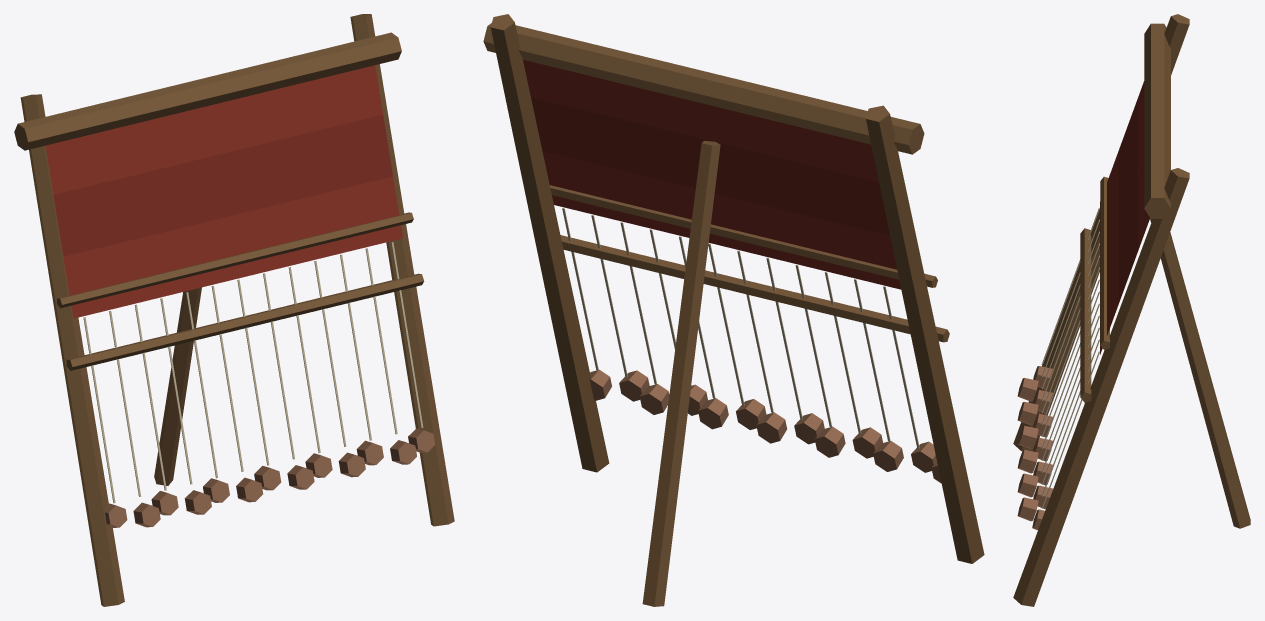
Rendered from b4_vaev.glb.
The picture shows the model from 3 angles, left to right: view 1: azimuth 30°, elevation 25°; view 2: azimuth 150°, elevation 25°; view 3: azimuth 270°, elevation 25°; orthographic projection. The views are drawn at different scales.
Visible parts, largest first — view 1: B4_opstadsvaev; view 2: B4_opstadsvaev; view 3: B4_opstadsvaev.
Part boxes in pixels (left/top/right/bottom): B4_opstadsvaev: left=14, top=14, right=454, bottom=606; B4_opstadsvaev: left=483, top=14, right=984, bottom=606; B4_opstadsvaev: left=1013, top=14, right=1250, bottom=606.
Bounding box in the file's own units: 1.7 × 1.97 × 0.9789.
